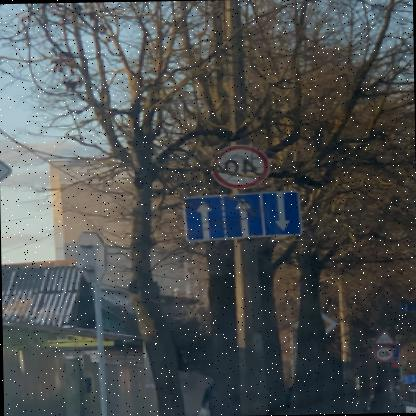speedlimit: (214, 143, 270, 186), (378, 345, 397, 359)
trafficlight: (392, 358, 406, 378)
